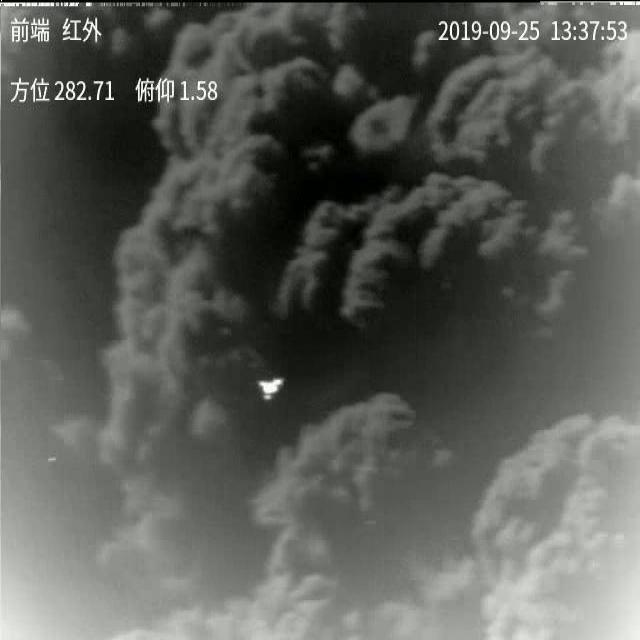drone: (258, 376, 284, 400)
